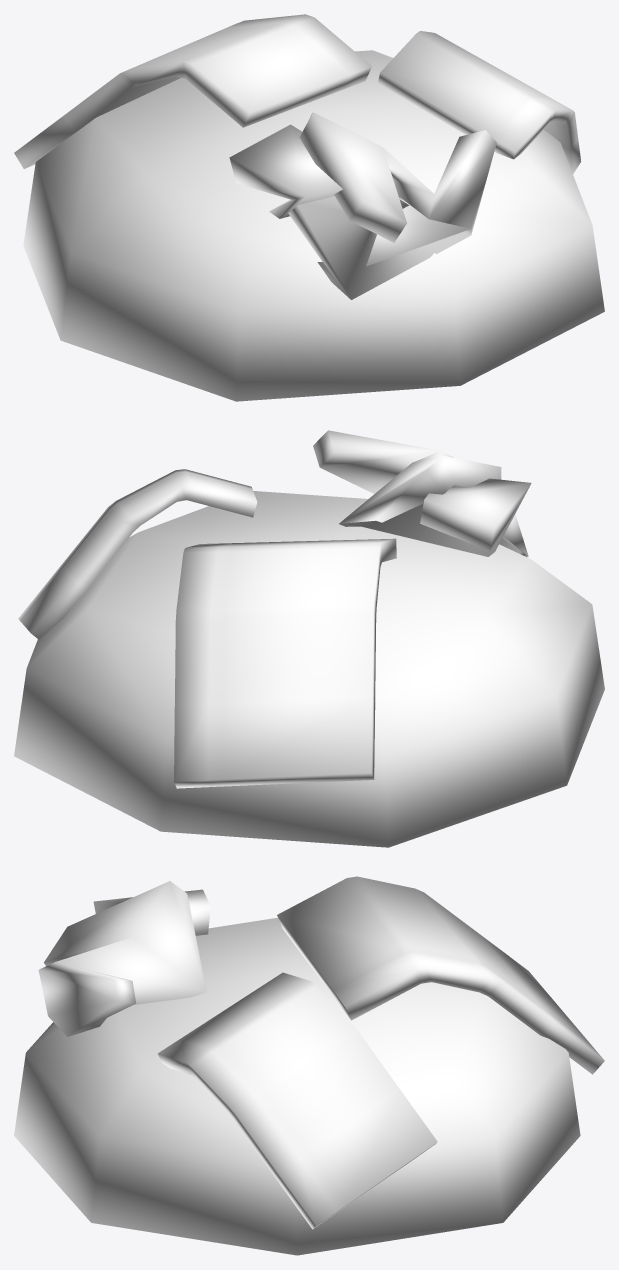
The model's file is PaperRubble.fbx.
3 renders of one model, top to bottom at view 1: azimuth 30°, elevation 25°; view 2: azimuth 150°, elevation 25°; view 3: azimuth 270°, elevation 25°, orthographic. The views are drawn at different scales.
Parts seen in each view (by area): view 1: PaperRubble; view 2: PaperRubble; view 3: PaperRubble.
Boxes of the visible parts, left/top/right/bottom form: PaperRubble: left=14, top=14, right=604, bottom=401; PaperRubble: left=14, top=430, right=604, bottom=847; PaperRubble: left=14, top=876, right=604, bottom=1255.
Bounding box in the file's own units: 0.2534 × 0.609 × 0.6072.
